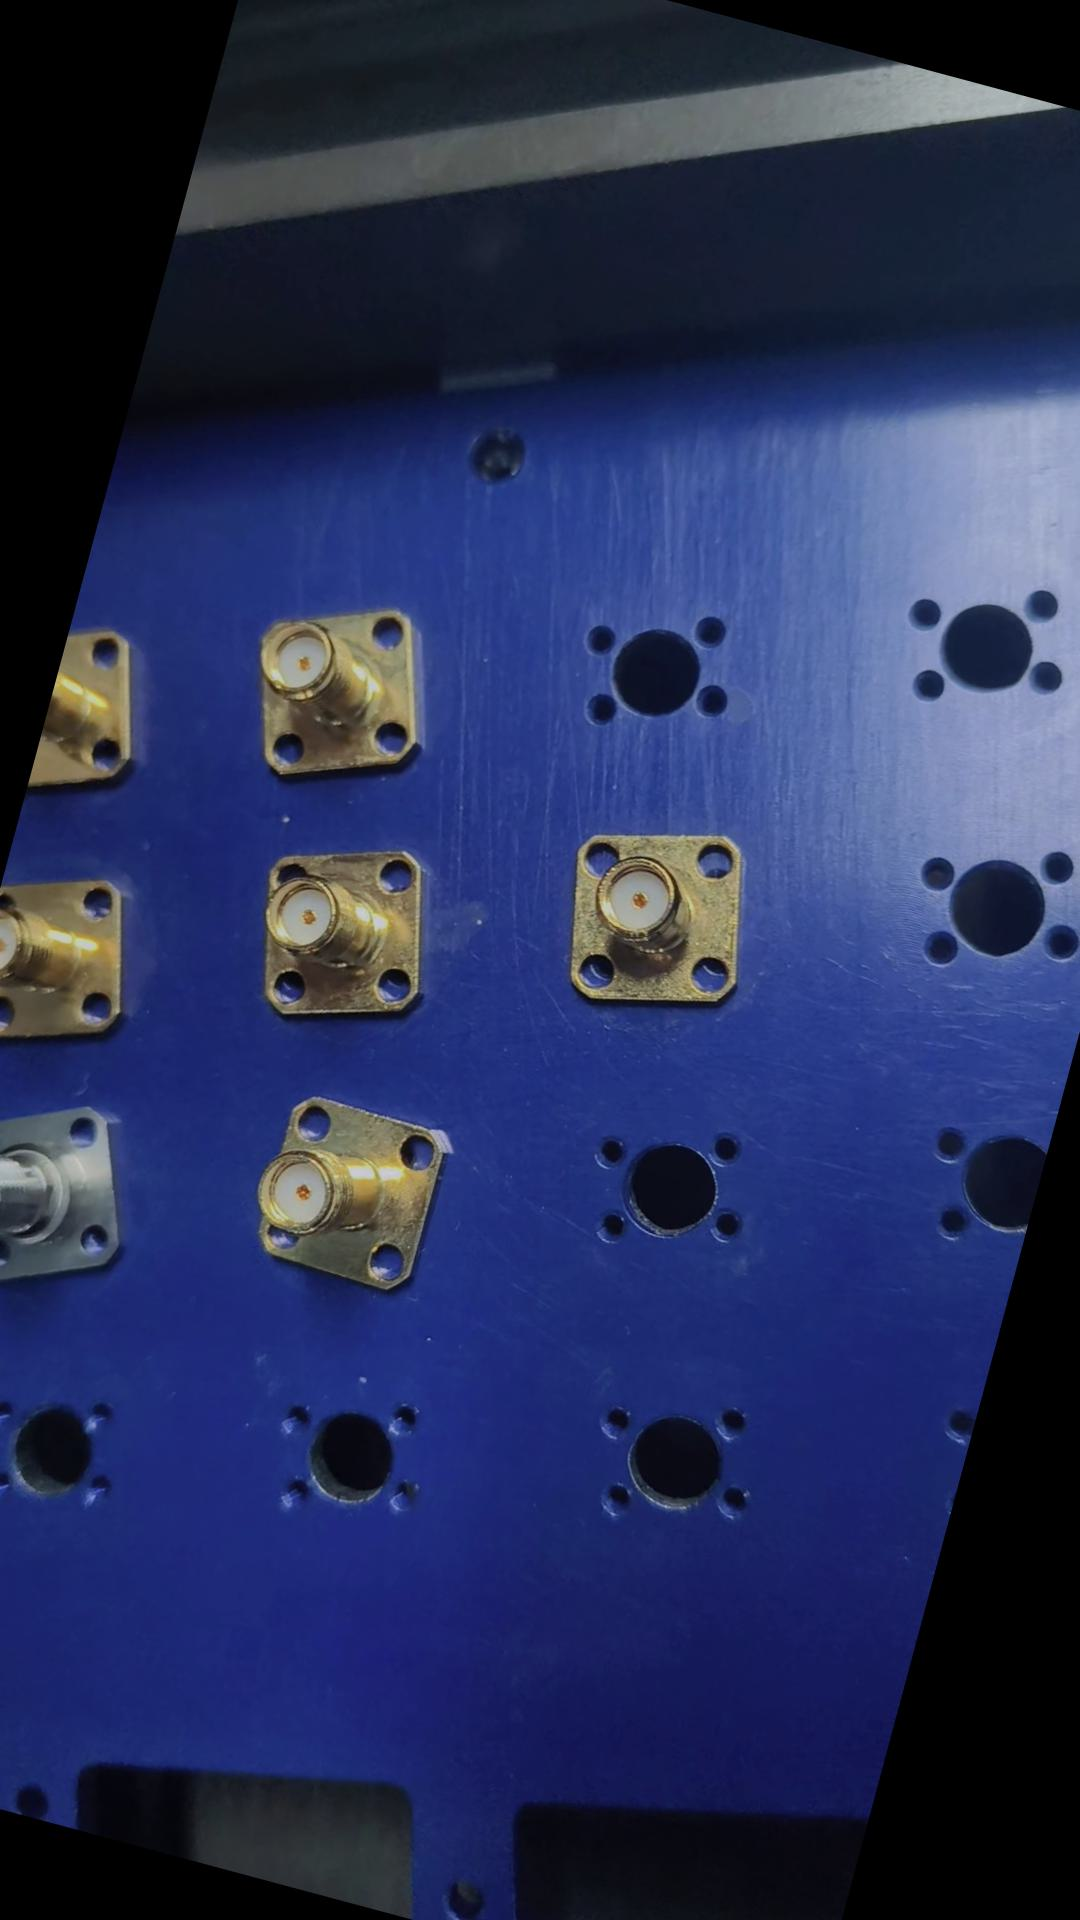SMA: (233, 575, 462, 827), (545, 796, 774, 1038), (237, 808, 459, 1052), (245, 1084, 468, 1305), (0, 1065, 160, 1317), (0, 851, 164, 1069)
